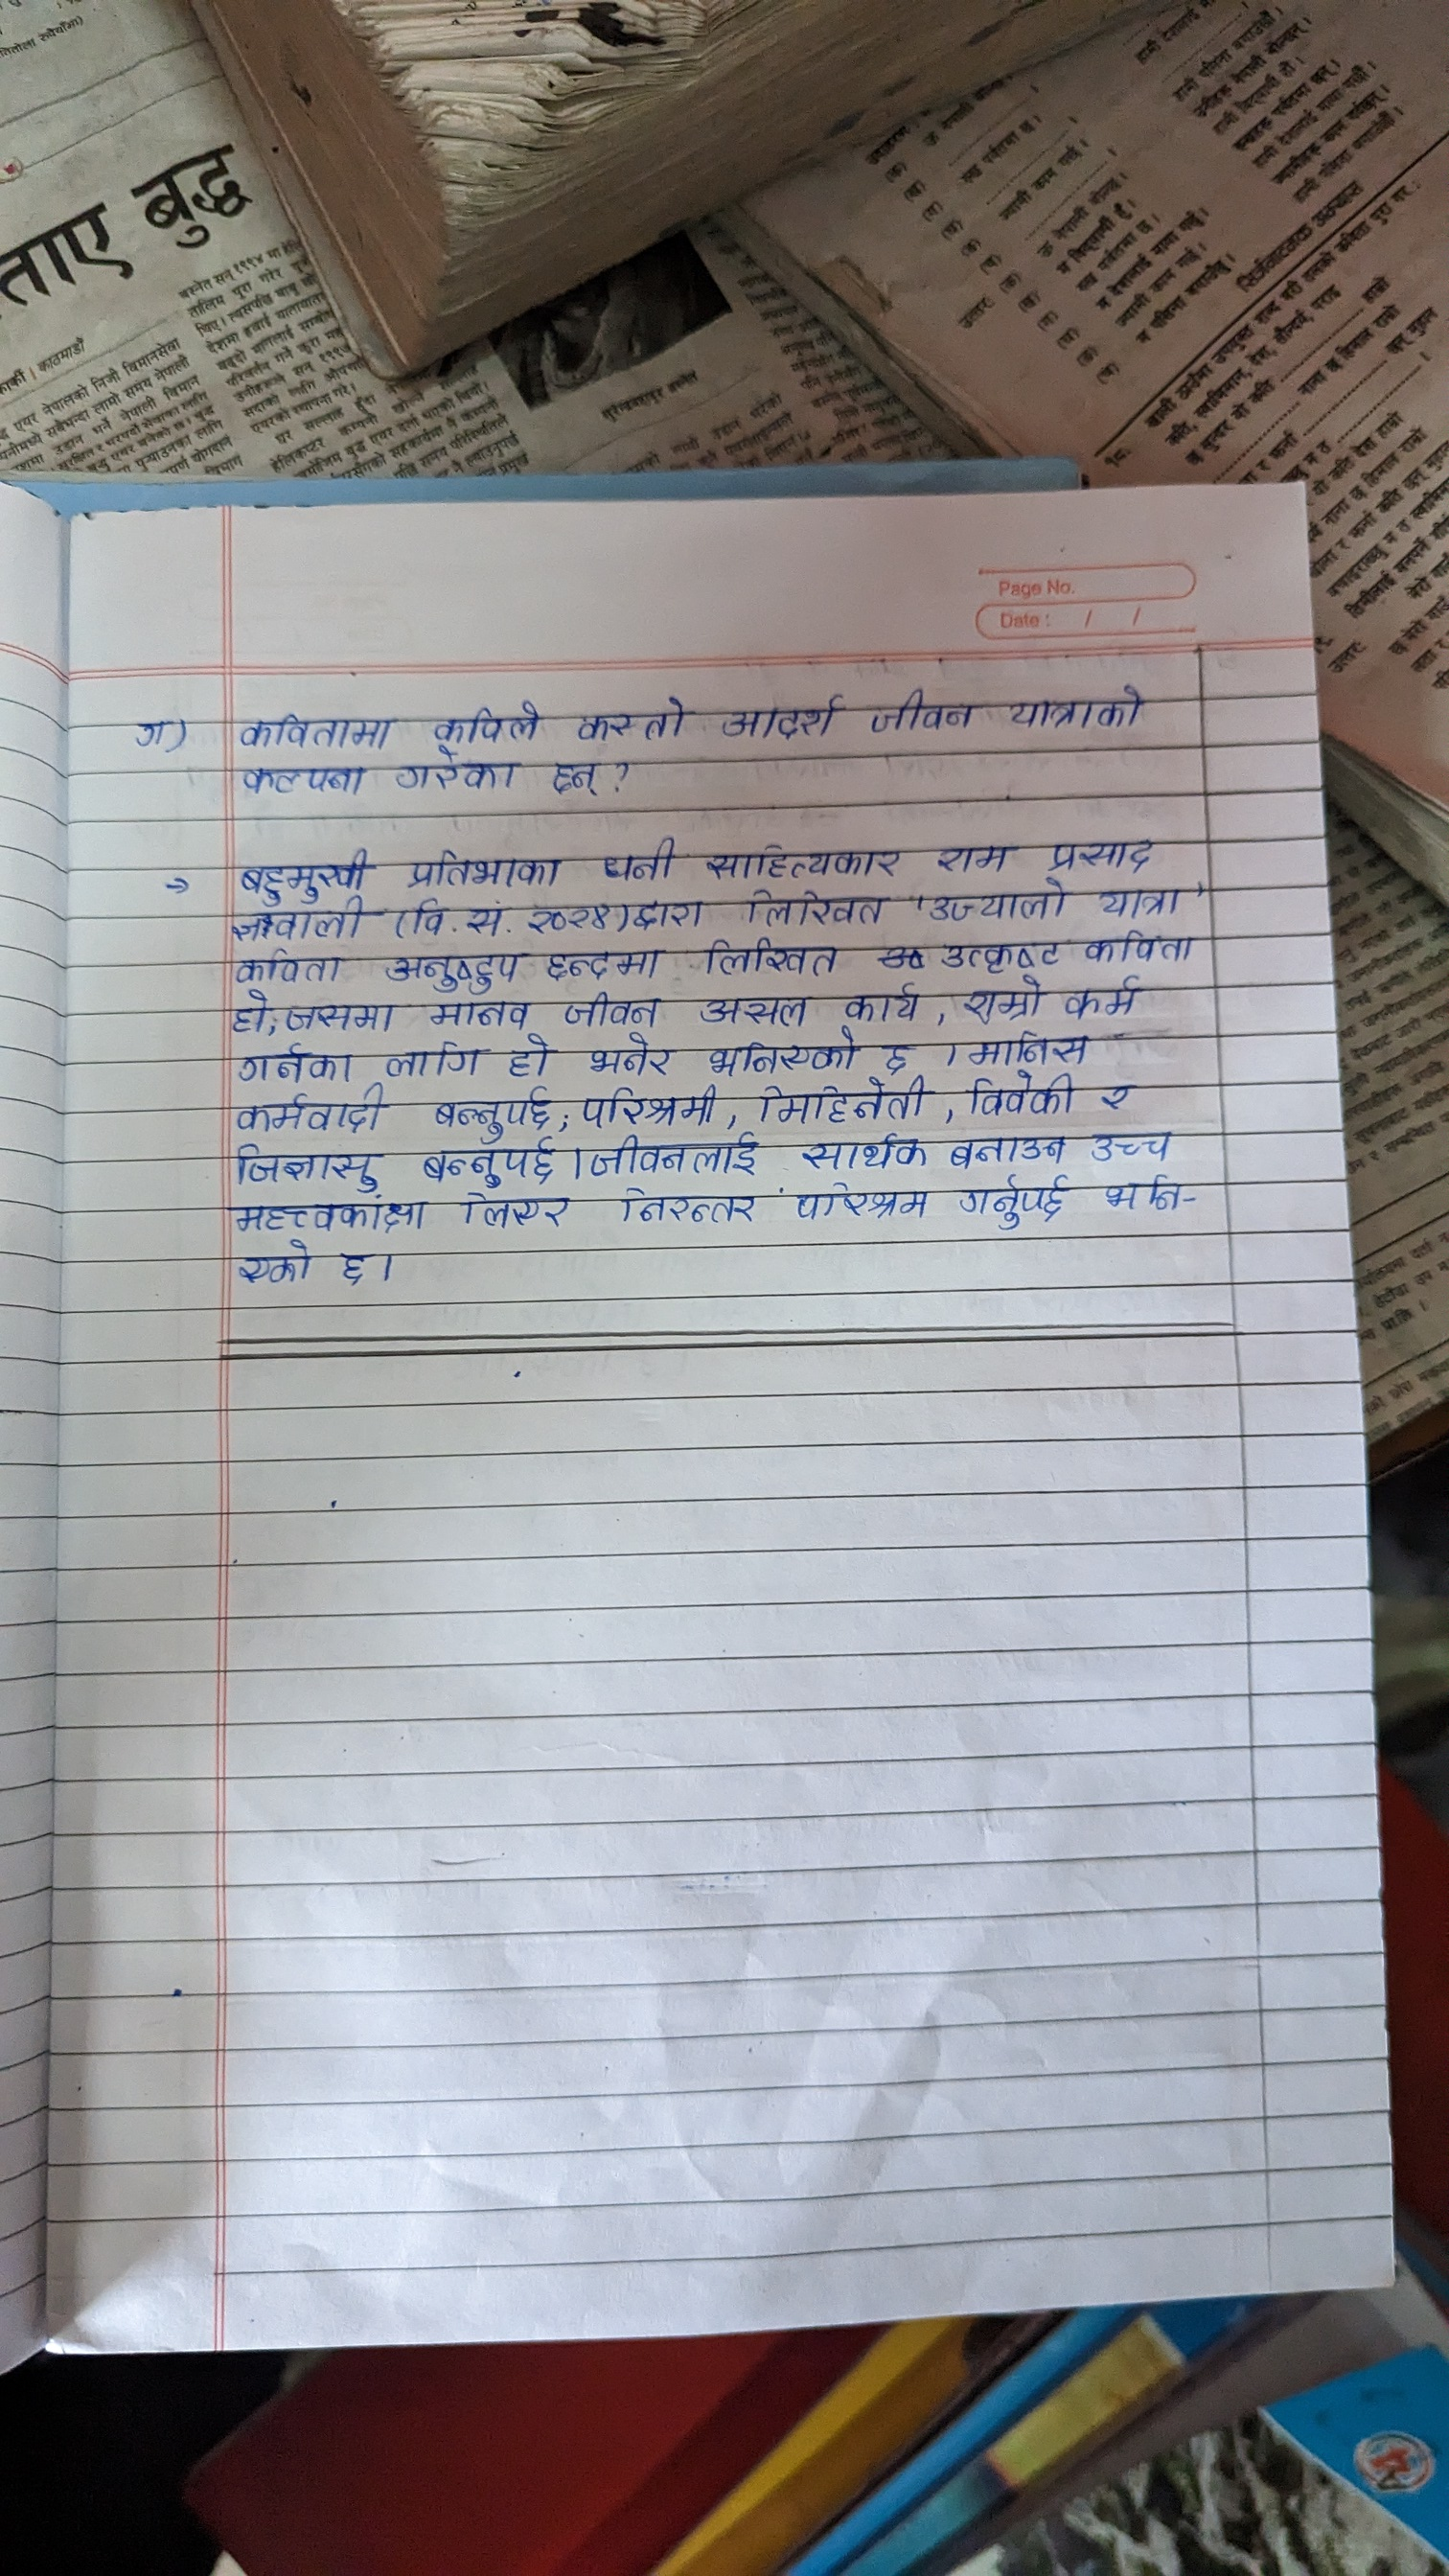text: (996, 671, 1161, 741), (711, 681, 858, 747), (697, 837, 904, 879), (748, 1077, 931, 1125), (218, 1194, 435, 1231), (234, 842, 372, 899), (405, 844, 566, 892), (589, 1136, 766, 1177), (234, 1088, 389, 1134), (223, 1143, 382, 1187), (410, 1136, 557, 1184), (869, 685, 987, 743), (708, 1030, 860, 1074), (228, 709, 391, 750), (568, 688, 688, 743), (931, 881, 1077, 925), (787, 1180, 934, 1224), (734, 888, 893, 929), (428, 1085, 563, 1132), (384, 947, 524, 991), (954, 1175, 1074, 1226), (610, 1185, 761, 1226), (579, 1083, 715, 1125), (398, 747, 525, 791), (228, 904, 366, 945), (699, 939, 844, 977), (425, 697, 541, 743), (962, 1072, 1076, 1118), (541, 941, 667, 980), (796, 1134, 927, 1171), (591, 830, 679, 885), (234, 1044, 354, 1083), (234, 763, 372, 796), (228, 948, 341, 989), (964, 1028, 1088, 1065), (1099, 1171, 1187, 1221), (456, 1191, 573, 1228), (947, 1129, 1069, 1164), (934, 938, 1069, 970), (955, 973, 1044, 1021), (1044, 835, 1162, 870), (561, 987, 662, 1028), (1083, 1123, 1177, 1166), (382, 1040, 488, 1077), (232, 1238, 317, 1284), (1085, 929, 1200, 962), (1062, 975, 1145, 1021), (924, 837, 1017, 878), (283, 1000, 398, 1031), (421, 1000, 536, 1030), (628, 893, 709, 936), (842, 980, 924, 1023), (587, 1033, 669, 1076), (694, 998, 817, 1024), (1097, 885, 1189, 918), (525, 901, 614, 934), (120, 704, 177, 755), (547, 755, 609, 800), (462, 901, 515, 943), (226, 993, 272, 1039), (333, 1244, 377, 1290), (506, 1035, 554, 1076), (1086, 1076, 1138, 1111), (409, 895, 451, 934), (879, 1035, 913, 1076)
